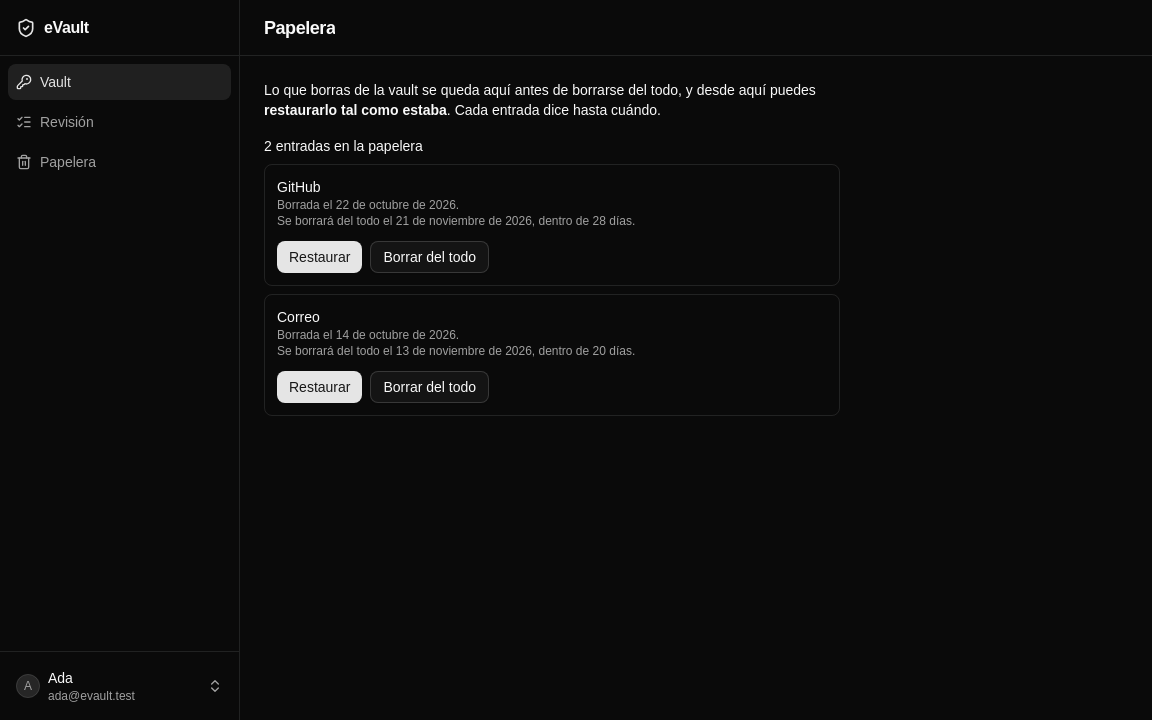
deleting for good › asks first, and sends nothing until it is confirmed
Click the 1st button "Borrar del todo": (430, 257) [370,241,489,273]
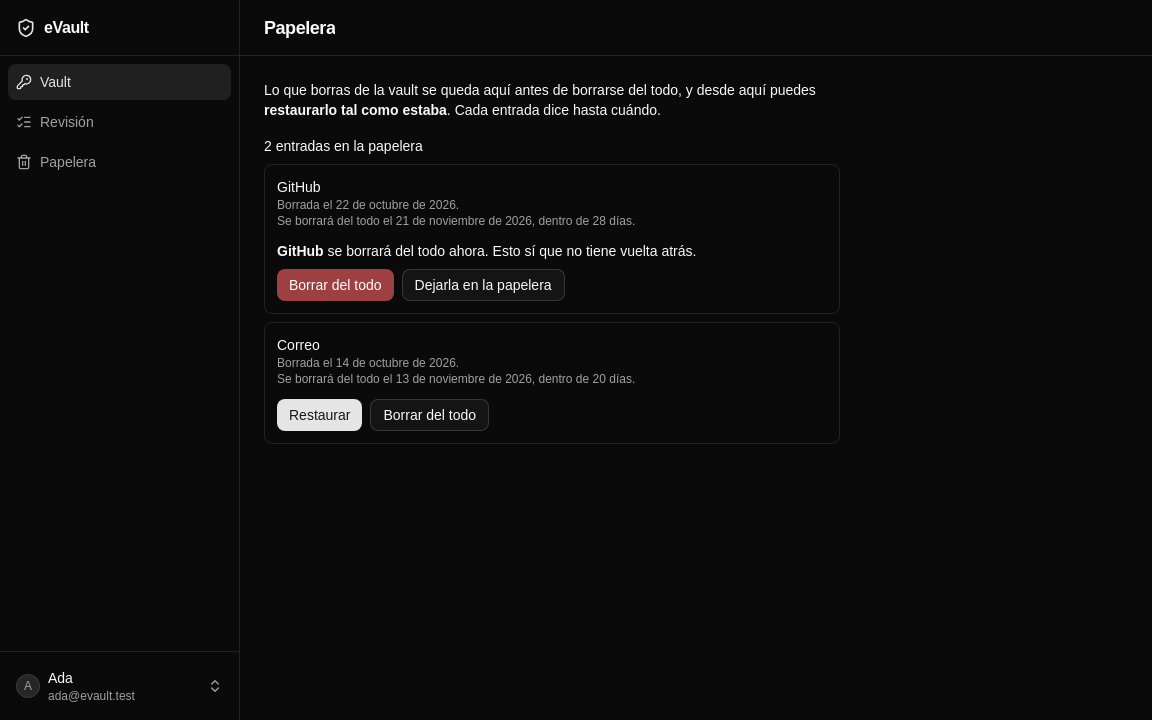
Result: the dialog shows "no tiene vuelta atrás" at [324,243,696,259]
Click the 1st button "Borrar del todo": (335, 285) [277,269,394,301]
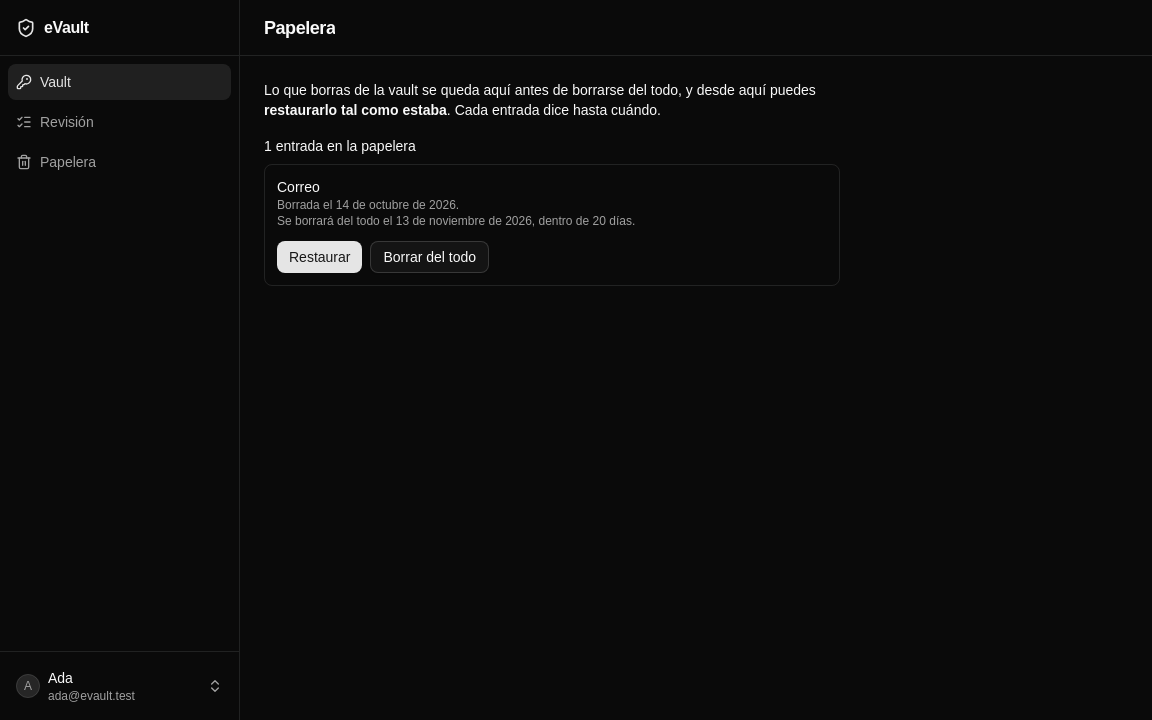
Expected: the text "Correo" is shown, [277,179,320,195]
Result: the text "GitHub" is gone
